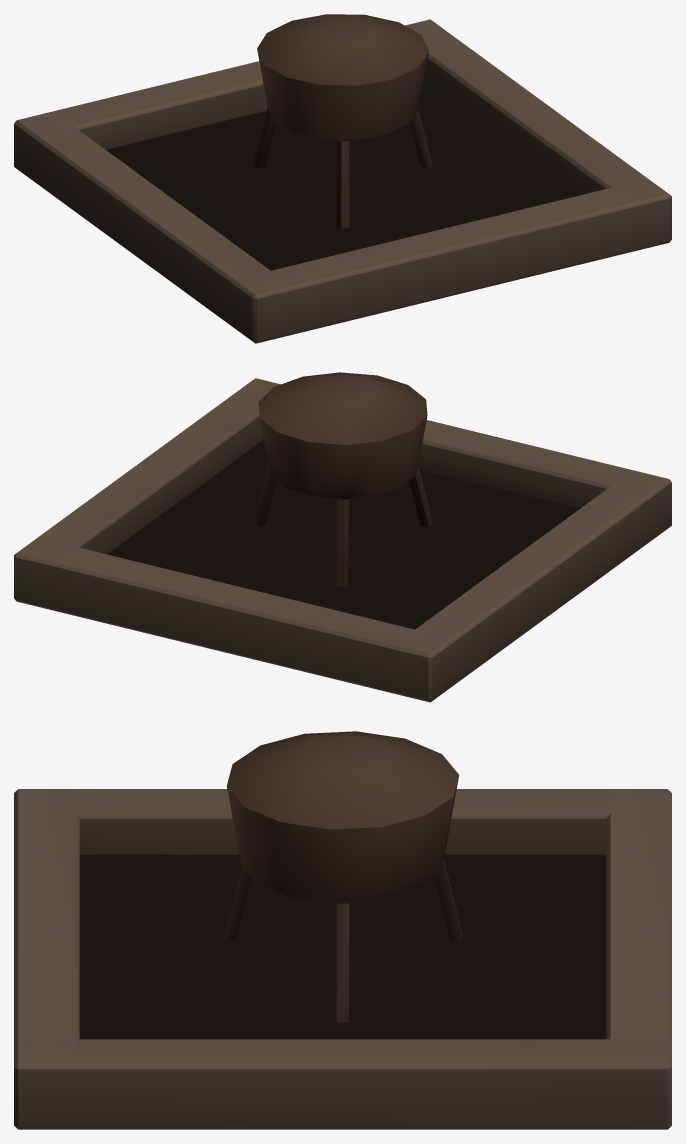
The model's file is prop.irori.glb.
The picture shows the model from 3 angles, top to bottom: view 1: azimuth 30°, elevation 25°; view 2: azimuth 150°, elevation 25°; view 3: azimuth 270°, elevation 25°; orthographic projection. The views are drawn at different scales.
Parts seen in each view (by area): view 1: LOD0; view 2: LOD0; view 3: LOD0.
Part boxes in pixels (bbox=[...]): LOD0: bbox=[14, 14, 671, 343]; LOD0: bbox=[14, 372, 671, 702]; LOD0: bbox=[14, 731, 671, 1129].
Size of what is drawn, in the model's own units: 0.9 by 0.36 by 0.9.
